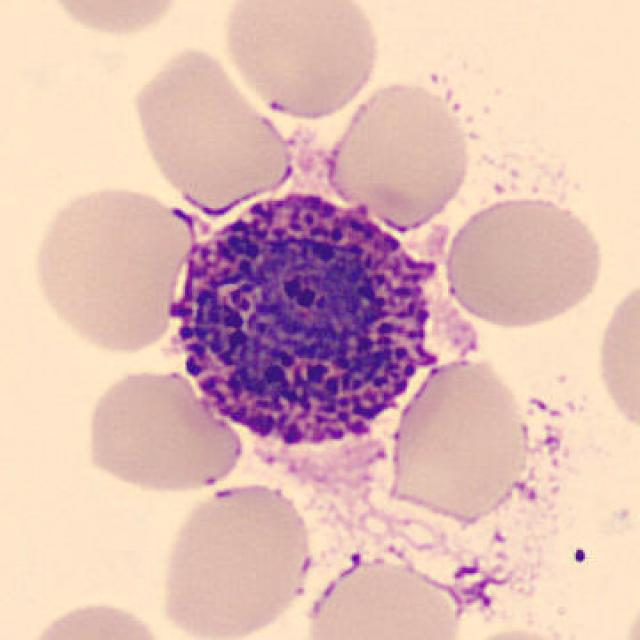Basophil: (146, 173, 489, 497)
RBC: (27, 178, 199, 356), (126, 40, 295, 212), (382, 352, 535, 526), (154, 479, 316, 640), (439, 190, 608, 332), (322, 76, 474, 231), (78, 363, 249, 497), (218, 0, 386, 122), (297, 548, 466, 640), (590, 270, 640, 441), (16, 596, 174, 640), (36, 0, 192, 41), (446, 624, 592, 640), (622, 580, 640, 640)
